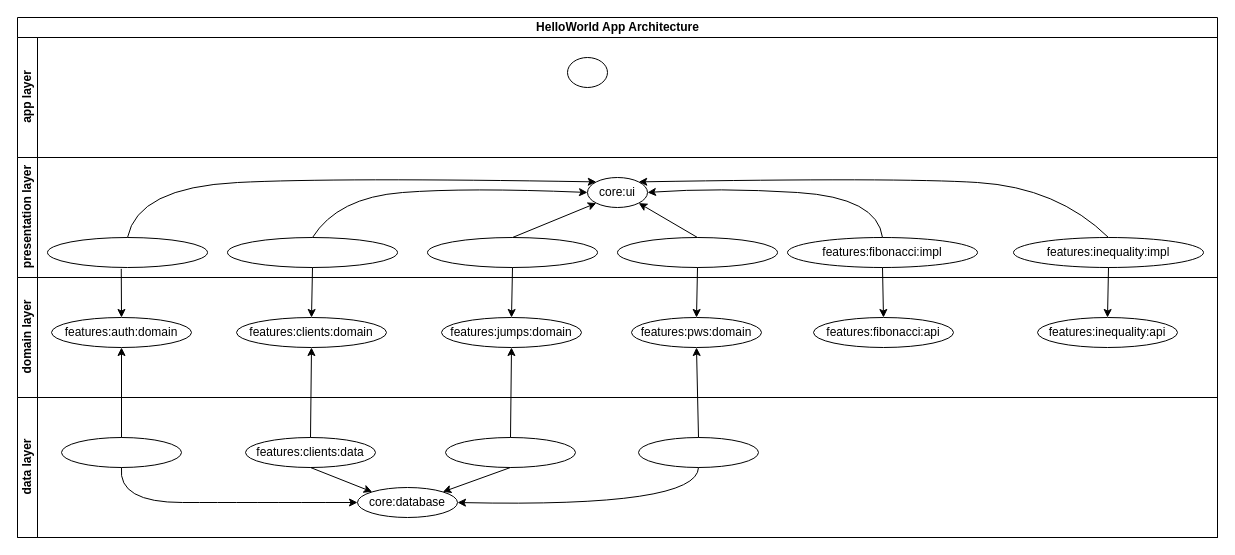
Some shapes in this 1235 by 555 pixel diagram are drawn without their labels. The centre of each missing label's shape, as x and y in pixels:
app: (587,72)
features:auth:data: (121,452)
features:auth:presentation: (127,252)
features:clients:presentation: (312,252)
features:jumps:data: (510,452)
features:jumps:presentation: (512,252)
features:pws:data: (698,452)
features:pws:presentation: (697,252)
